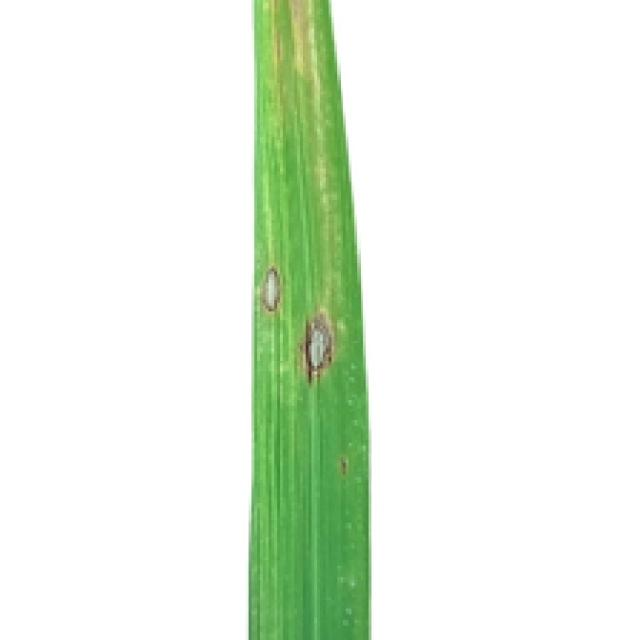Rice___Rice_Blast: (250, 0, 375, 637)
